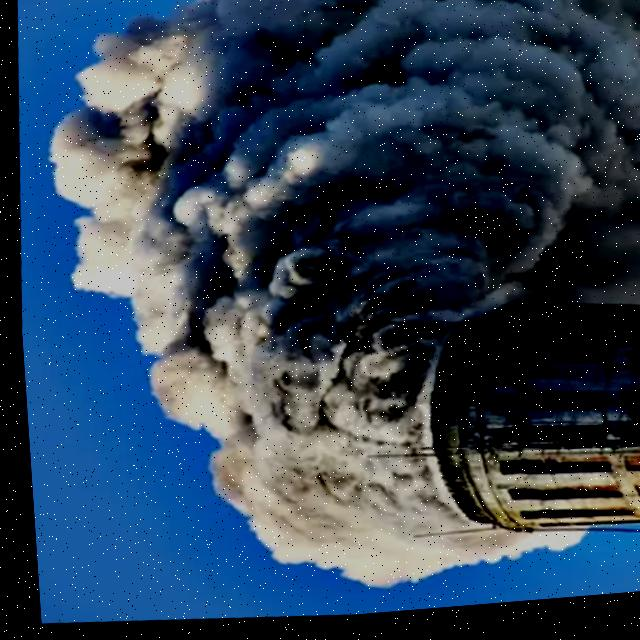Smoke: (15, 0, 640, 627)
